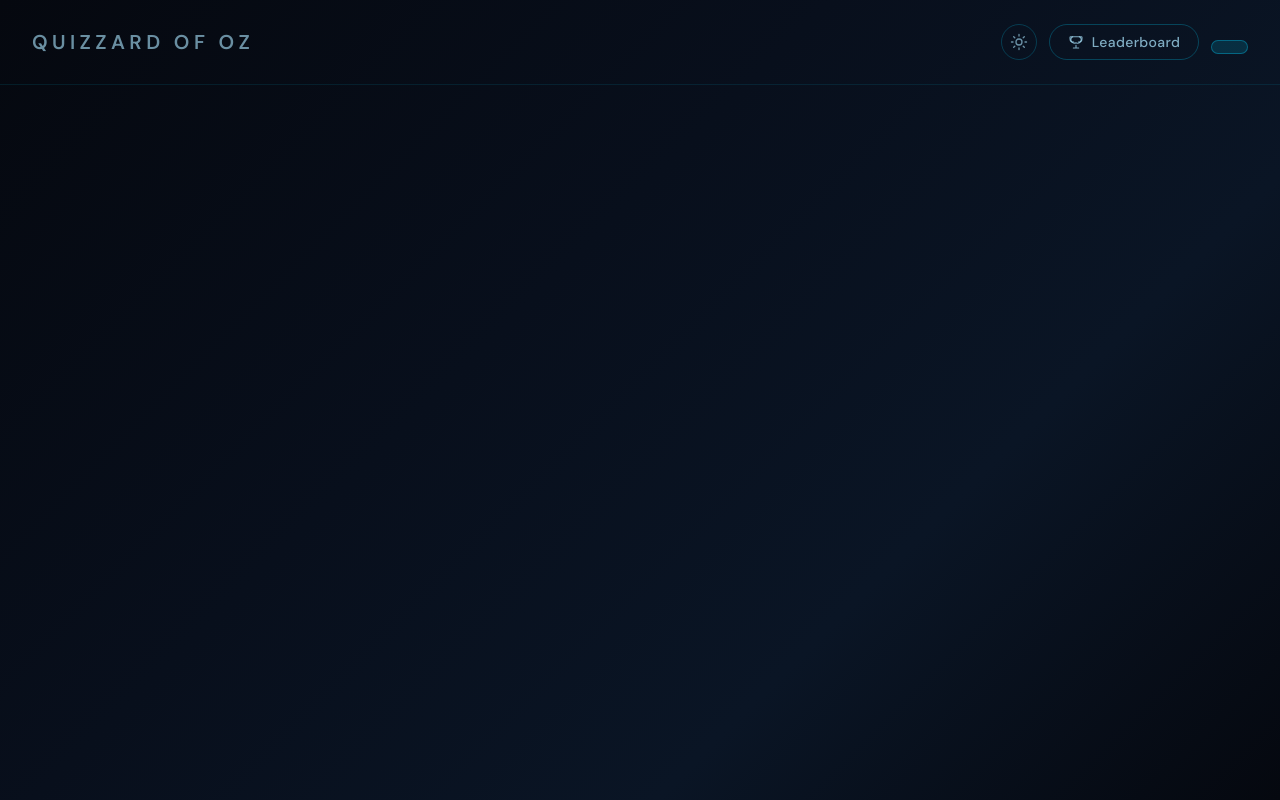
Test: Navbar – battle leave guard (isBattle = true) › "Weiterspielen" closes the dialog without navigating
Click the link "Quizzard of Oz": [143, 42] box [32,28,254,56]
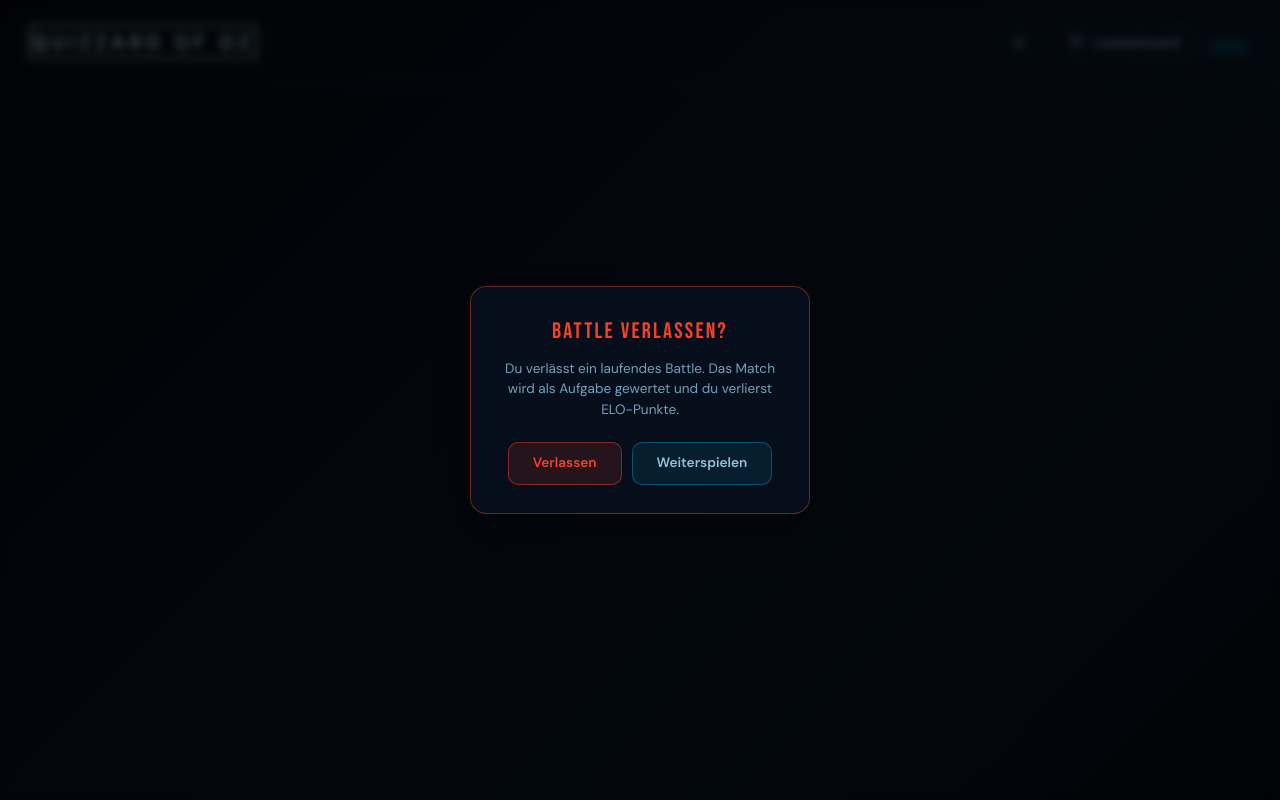
Check: the dialog "Battle verlassen" is shown
Click the button "Weiterspielen": [702, 463] box [632,442,772,485]
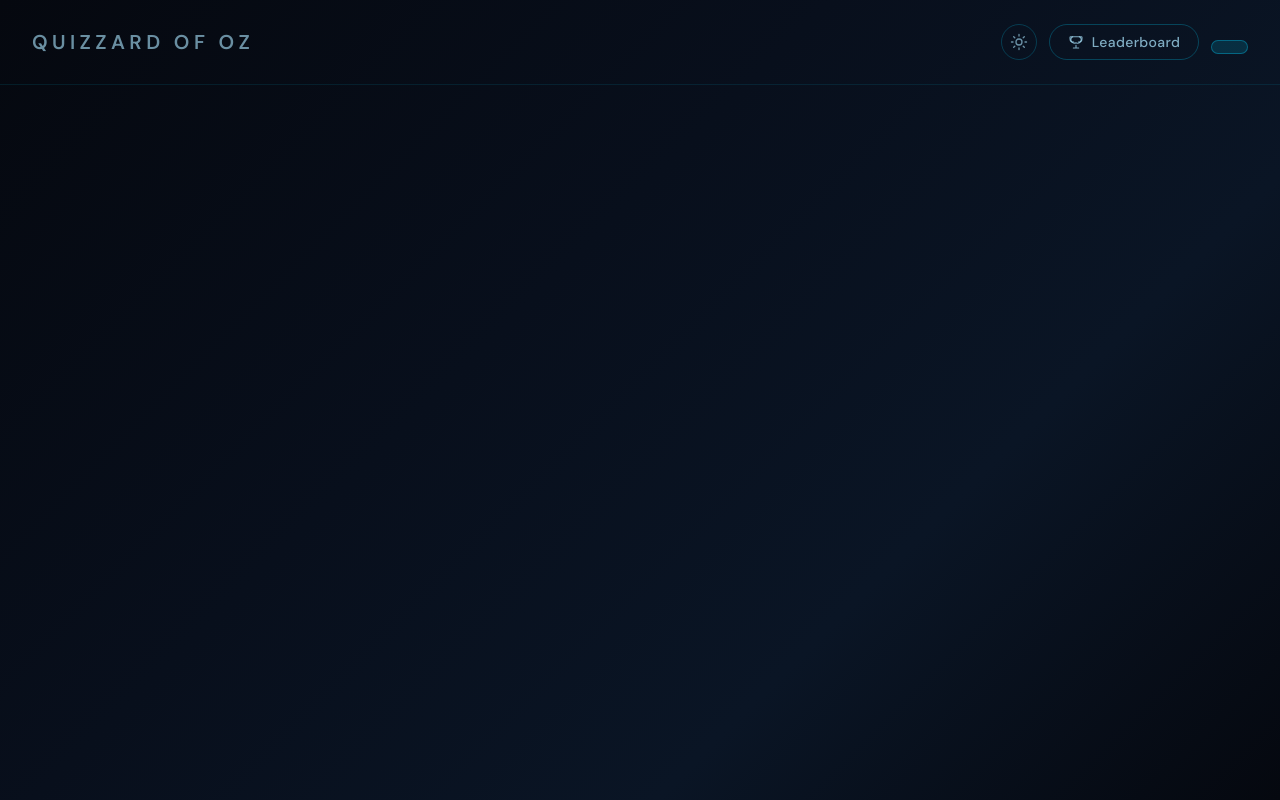
Check: the text "Battle verlassen" is gone
